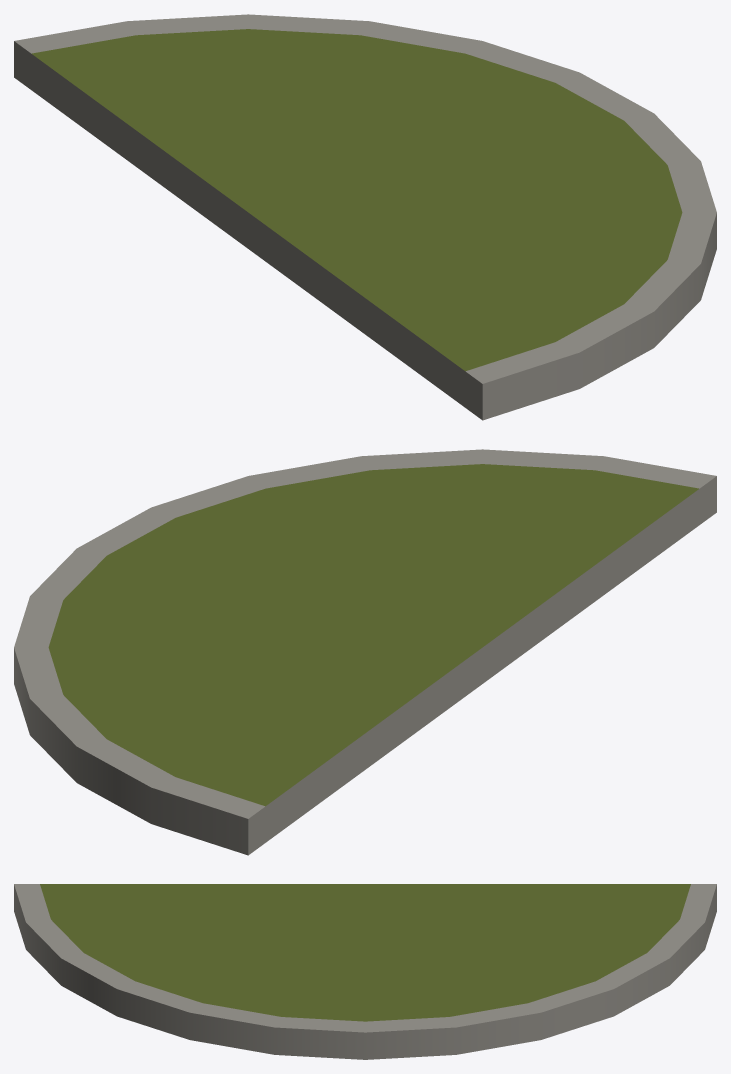
The model's file is median_nose_4p07.glb.
The picture shows the model from 3 angles, top to bottom: view 1: azimuth 30°, elevation 25°; view 2: azimuth 150°, elevation 25°; view 3: azimuth 270°, elevation 25°; orthographic projection. The views are drawn at different scales.
Parts seen in each view (by area): view 1: median_nose_4p07-col; view 2: median_nose_4p07-col; view 3: median_nose_4p07-col.
Boxes of the visible parts, box(x1,y1,x2,y2) form: median_nose_4p07-col: box(14, 14, 716, 420); median_nose_4p07-col: box(14, 449, 716, 855); median_nose_4p07-col: box(14, 884, 716, 1059).
Bounding box in the file's own units: 2.04 × 0.175 × 4.07.
